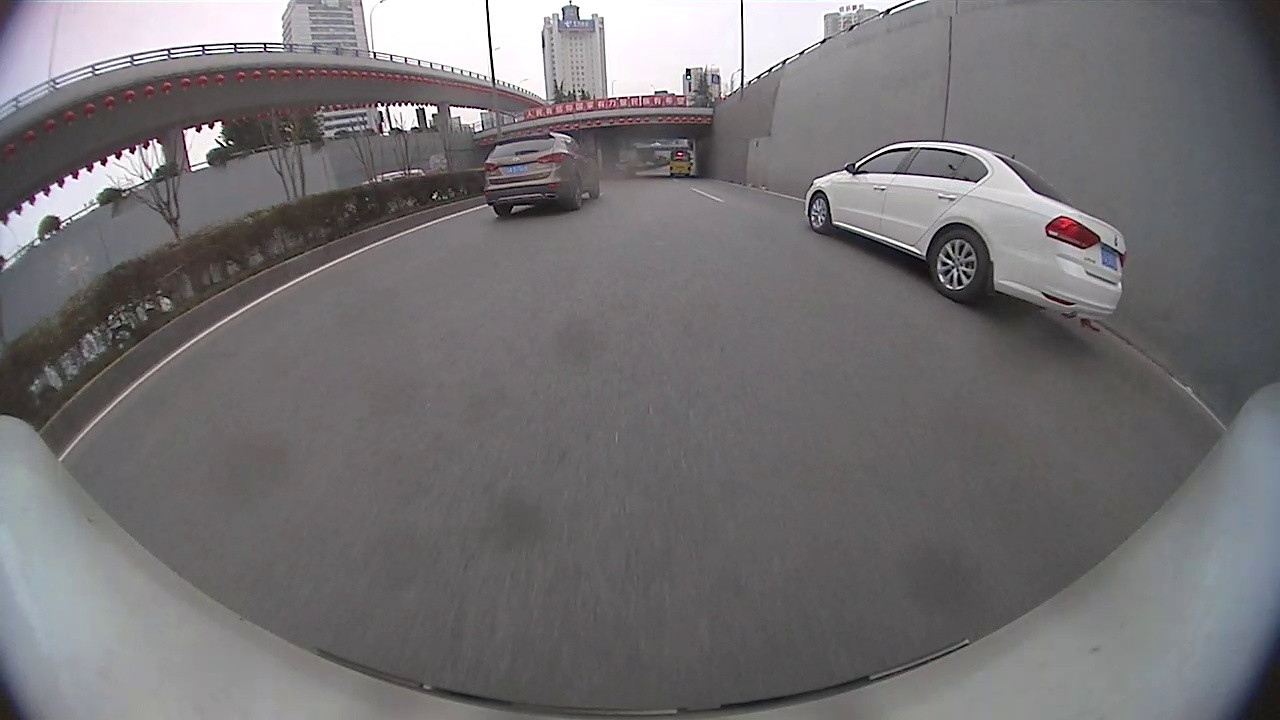car: (804, 137, 1131, 325), (482, 129, 604, 218)
front: (805, 192, 833, 236)
rear: (927, 229, 985, 301), (567, 175, 587, 214)
